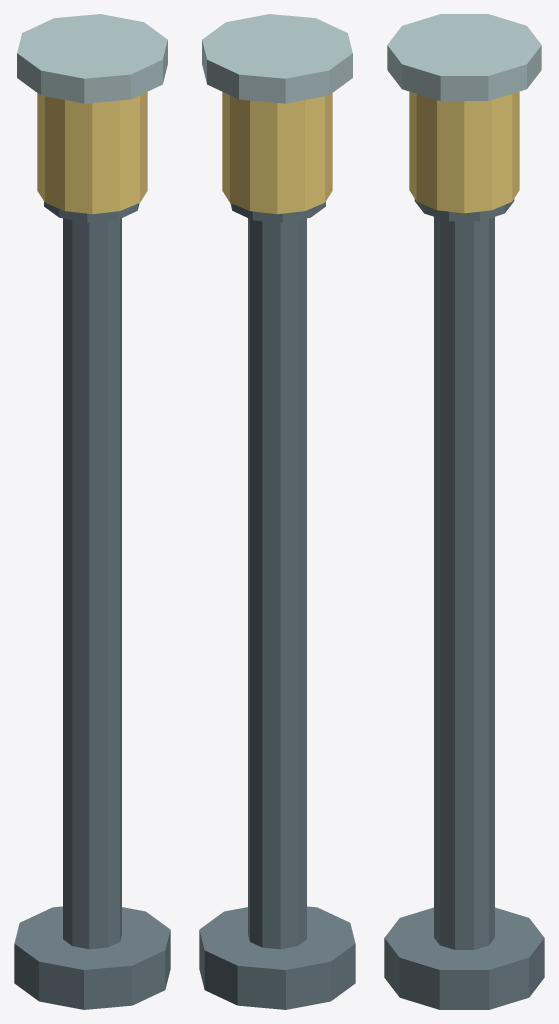
File: StreetLamp_Radial.glb
The picture shows the model from 3 angles, left to right: view 1: azimuth 30°, elevation 25°; view 2: azimuth 150°, elevation 25°; view 3: azimuth 270°, elevation 25°; orthographic projection.
Visible parts, largest first — view 1: FTF_StreetLamp_Radial_3_7m_Mesh; view 2: FTF_StreetLamp_Radial_3_7m_Mesh; view 3: FTF_StreetLamp_Radial_3_7m_Mesh.
Part boxes in pixels (x1,y1,x2,y2): FTF_StreetLamp_Radial_3_7m_Mesh: (14,14,170,1009); FTF_StreetLamp_Radial_3_7m_Mesh: (199,14,355,1009); FTF_StreetLamp_Radial_3_7m_Mesh: (384,14,544,1009).
Size of the model in its own units: 0.5516 by 3.73 by 0.58.
